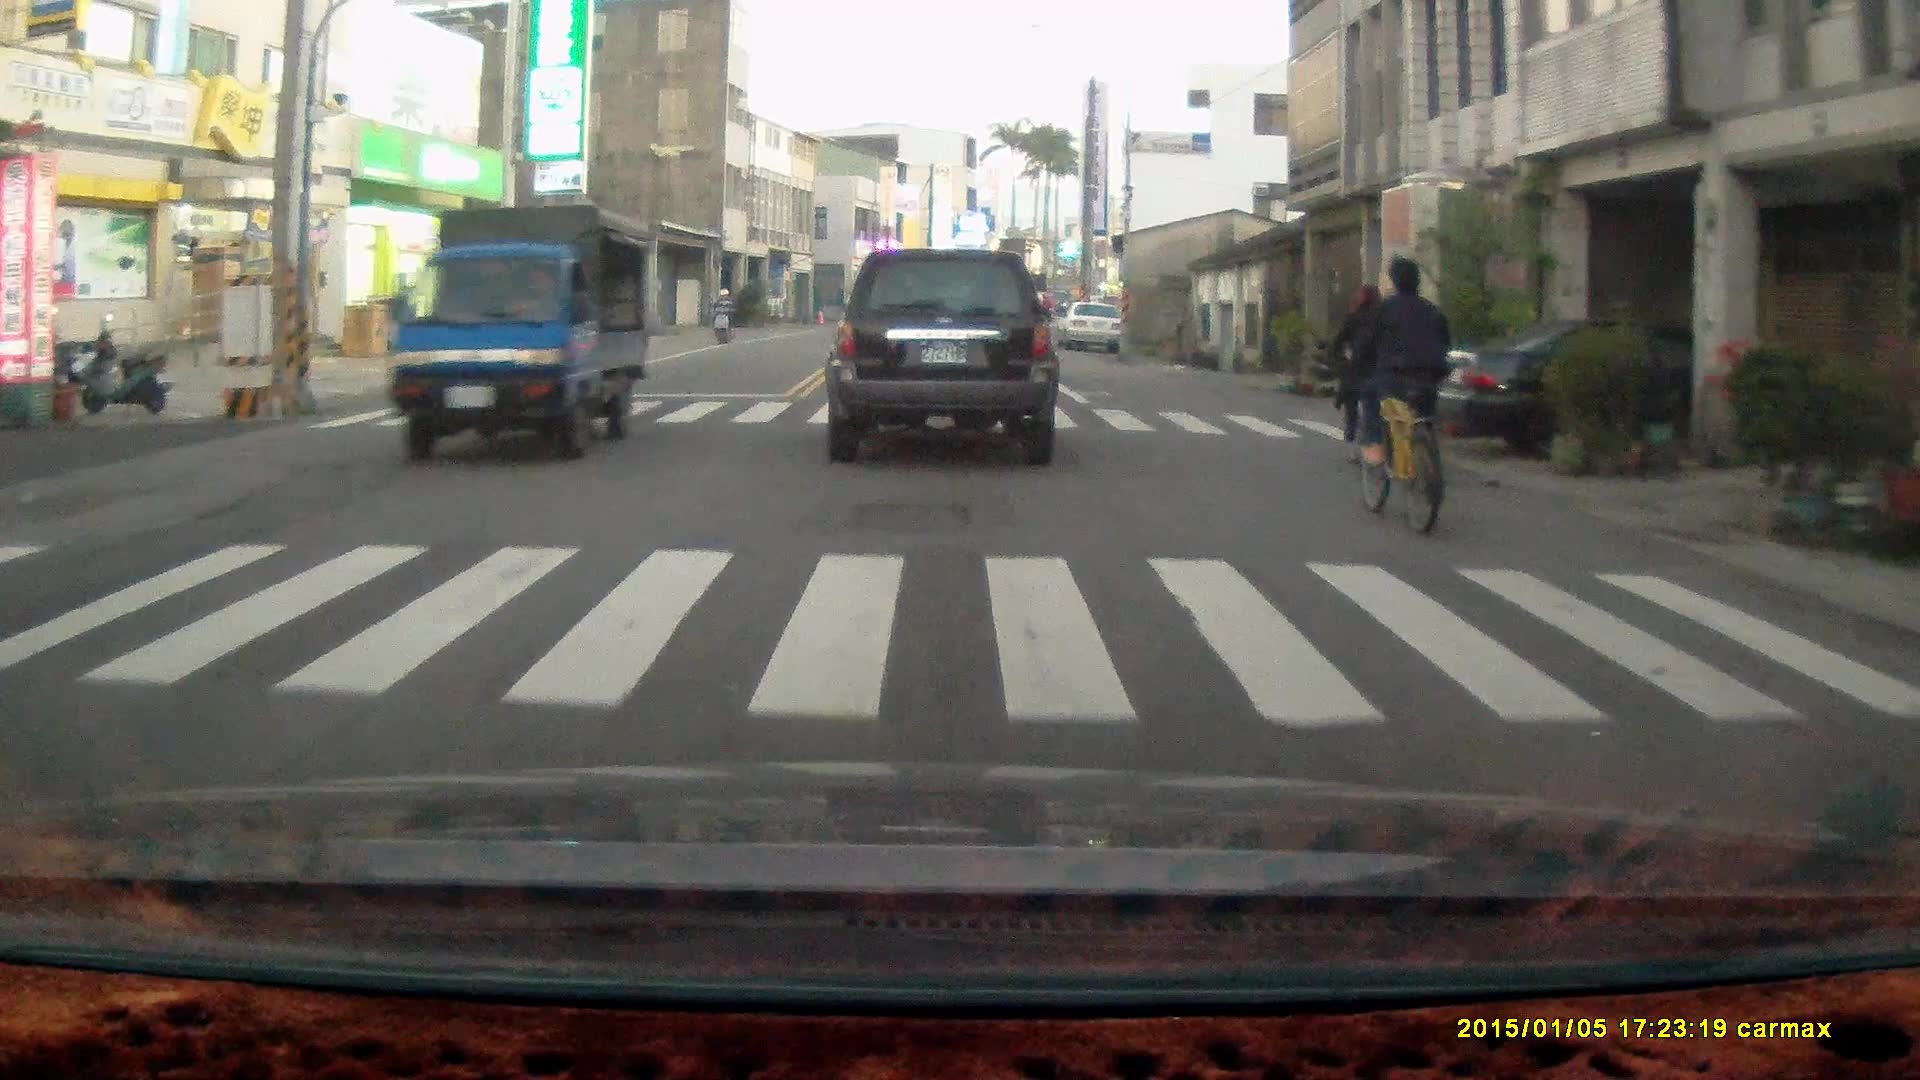rider: (1345, 255, 1451, 538), (1326, 278, 1397, 472), (709, 285, 734, 345)
vehicle: (383, 202, 664, 465), (1432, 317, 1855, 467), (824, 247, 1062, 468), (1058, 304, 1129, 356)
